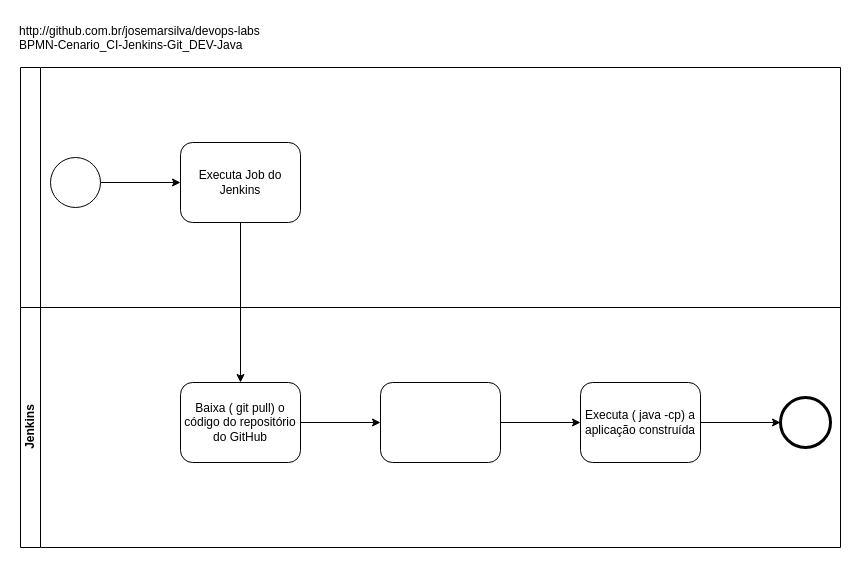
Image size: 858x565. Some labels were removed from this diagram. Here are the shapes that lost their labels. From the top down, the box of each, then its label:
(20, 66, 840, 308): Jenkins Administrator
(380, 382, 500, 462): Compila ( javac ) a aplicação baixada
